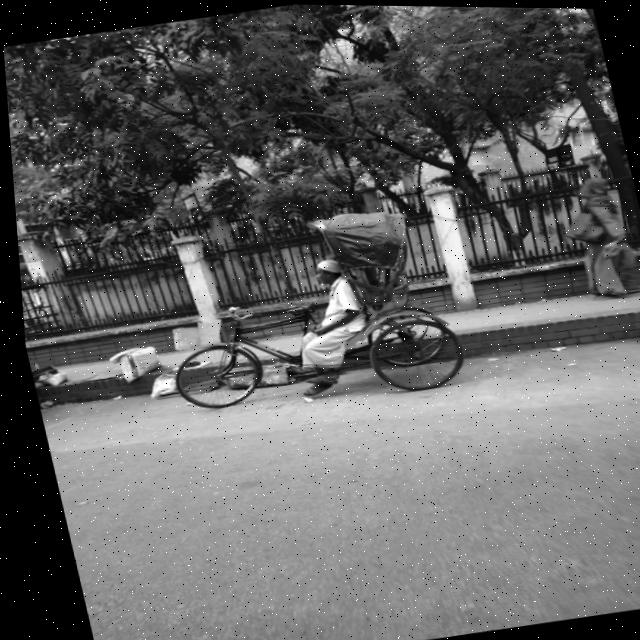rikshaw: (95, 192, 474, 433)
